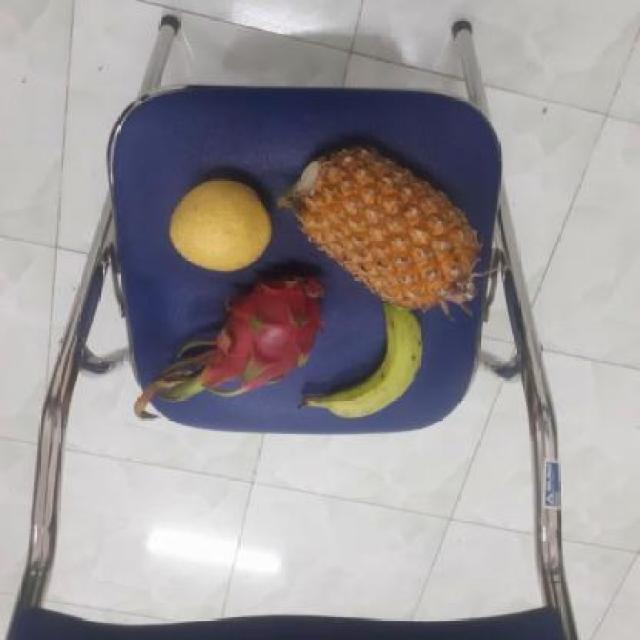banana: (312, 301, 430, 424)
dragon fruit: (202, 265, 330, 392)
pear: (166, 174, 280, 269)
pineapple: (291, 143, 483, 311)
